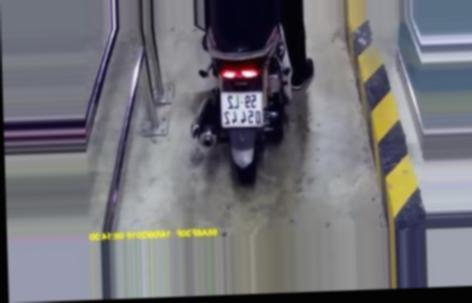License_Plate: (217, 86, 271, 133)
